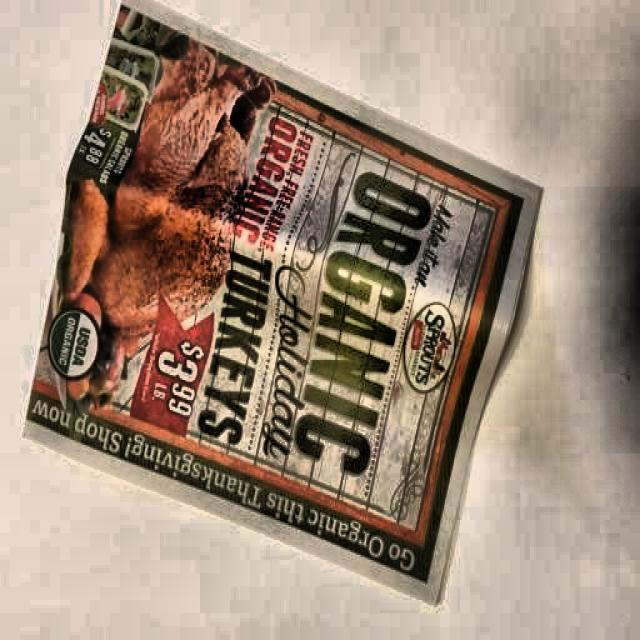paper: (19, 3, 540, 590)
